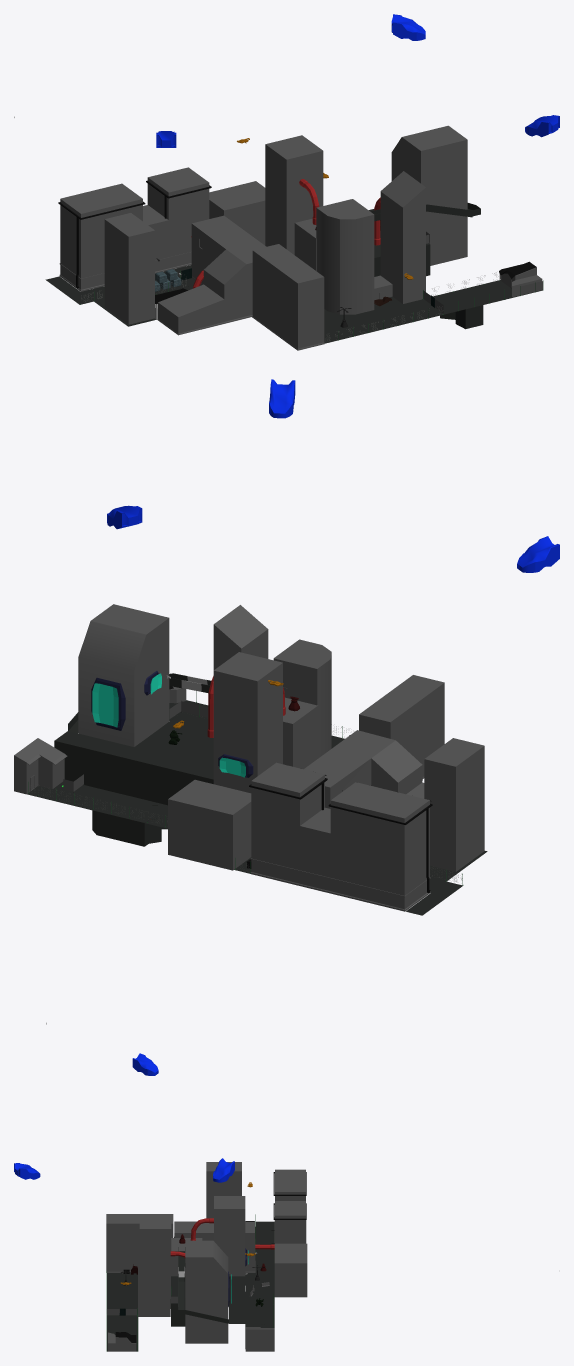
3 renders of one model, top to bottom at view 1: azimuth 30°, elevation 25°; view 2: azimuth 150°, elevation 25°; view 3: azimuth 270°, elevation 25°, orthographic. The views are drawn at different scales.
Visible parts, largest first — view 1: Box225, Box220, Plane006, Box222, Box234, Box218, Box221, Box216, Box224, Box228, Box217, gutter (+3 smaller); view 2: Box225, Plane006, Box222, Box216, Box224, Box228, Box220, Box234, Box218, Box221, Box233, Box217 (+5 smaller); view 3: Plane006, Box222, Box221, Box225, Box216, Box234, Box228, Box220, Box224, Box218, Box233, Box245 (+4 smaller).
Part boxes in pixels (x1,y1,x2,y2): Box225: (59,167,209,291); Box220: (157,215,266,335); Plane006: (45,203,542,343); Box222: (391,125,467,265); Box234: (252,244,324,350); Box218: (316,199,374,314); Box221: (374,171,425,303); Box216: (265,135,323,254); Box224: (104,213,154,324); Box228: (209,181,265,245); Box217: (294,218,316,270); gutter: (58,180,211,288); Box225: (250,762,430,911); Plane006: (27,673,487,915); Box222: (78,604,169,746); Box216: (213,652,282,793); Box224: (424,738,484,871); Box228: (168,779,251,870); Box220: (304,730,424,808); Box234: (359,675,444,778); Box218: (273,639,331,758); Box221: (213,605,268,669); Box233: (14,738,67,794); Box217: (283,697,318,769); Plane006: (107,1221,274,1351); Box222: (185,1240,228,1343); Box221: (138,1235,170,1316); Box225: (274,1169,306,1243); Box216: (214,1196,245,1276); Box234: (106,1214,173,1272); Box228: (274,1243,307,1297); Box220: (174,1221,255,1272); Box224: (206,1162,241,1218); Box218: (139,1215,171,1298); Box233: (245,1327,274,1351); Box245: (108,1332,136,1351).
Size of the model in its own units: 96.14 by 62.76 by 169.
31 materials, 1 textured.
